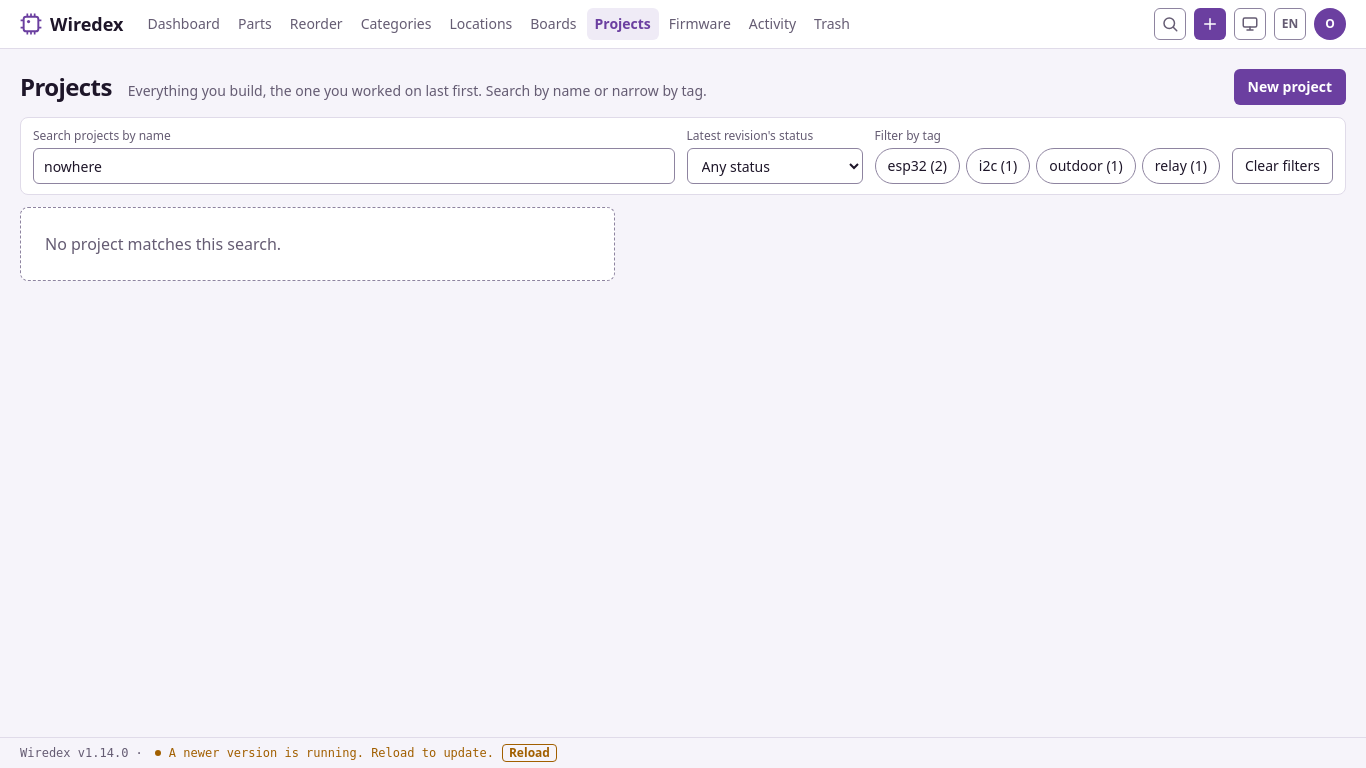
Scenario: ProjectsPage › offers to clear the filters when nothing matches
Check: the text "No project matches this search." is shown, box [45,232,281,256]
Click the button "Clear filters": click(1282, 166) [1232,148,1333,184]
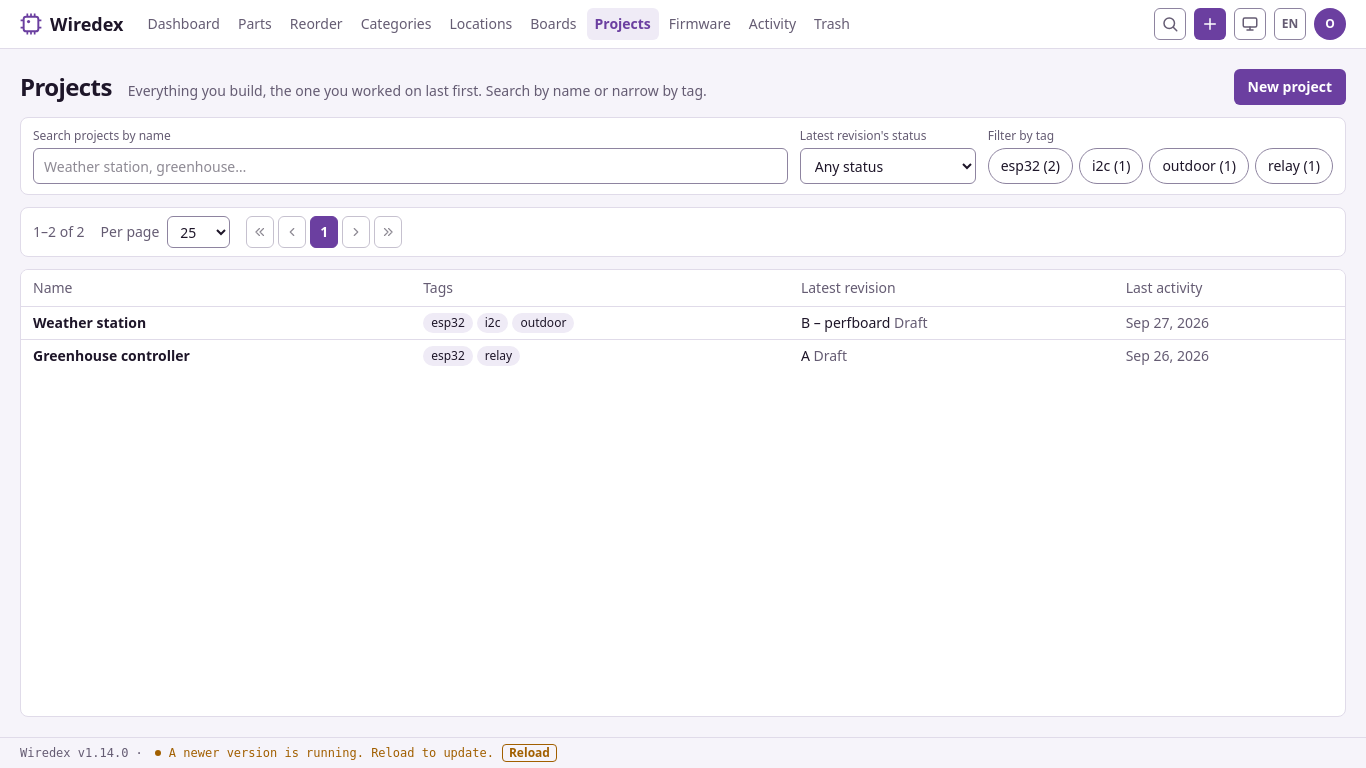
Check: the link "Weather station" is shown, box [33,313,146,332]
Check: the search field labelled "Search projects by name" is empty, box [33,148,788,184]
